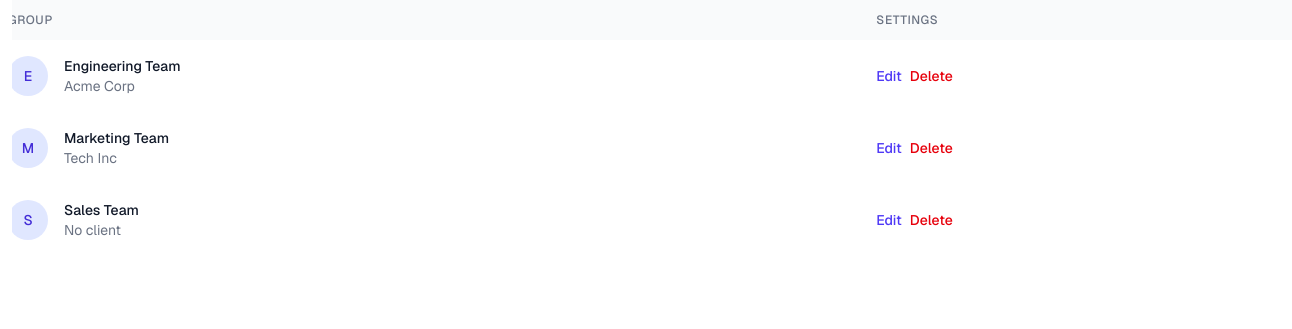
GroupsTable › should handle delete error gracefully
What coordinates should you click on to do the following:
click the button "Delete" in the row of "Engineering Team"
I would click on:
 (931, 76)
Its box is x1=910 y1=66 x2=953 y2=86.
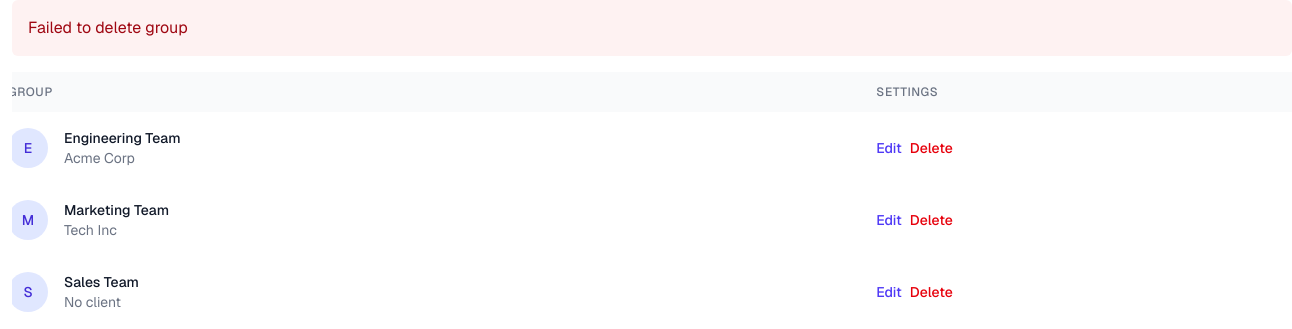
expect the text "Failed to delete group" is shown: met, box x1=12 y1=0 x2=1291 y2=56
